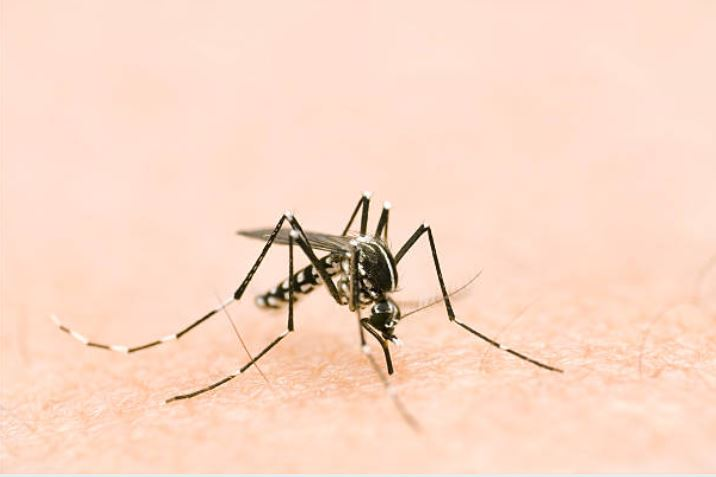dengue_mosquito: (45, 191, 564, 373)
